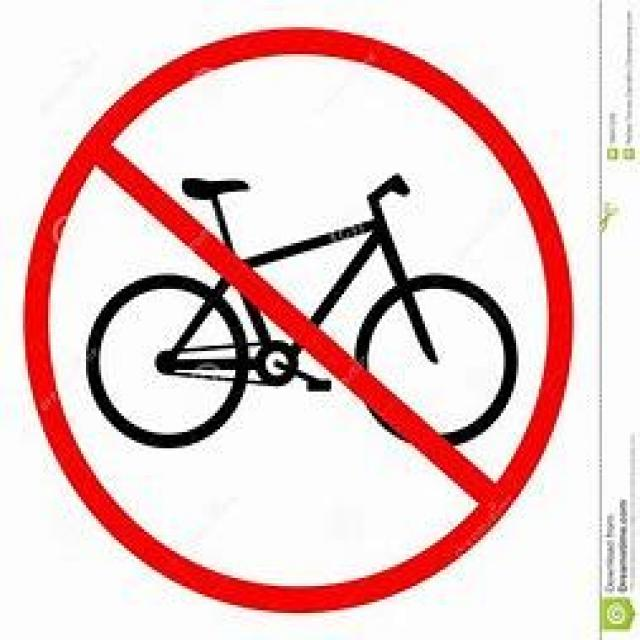CYCLE_PROHIBITED: (18, 30, 569, 610)
